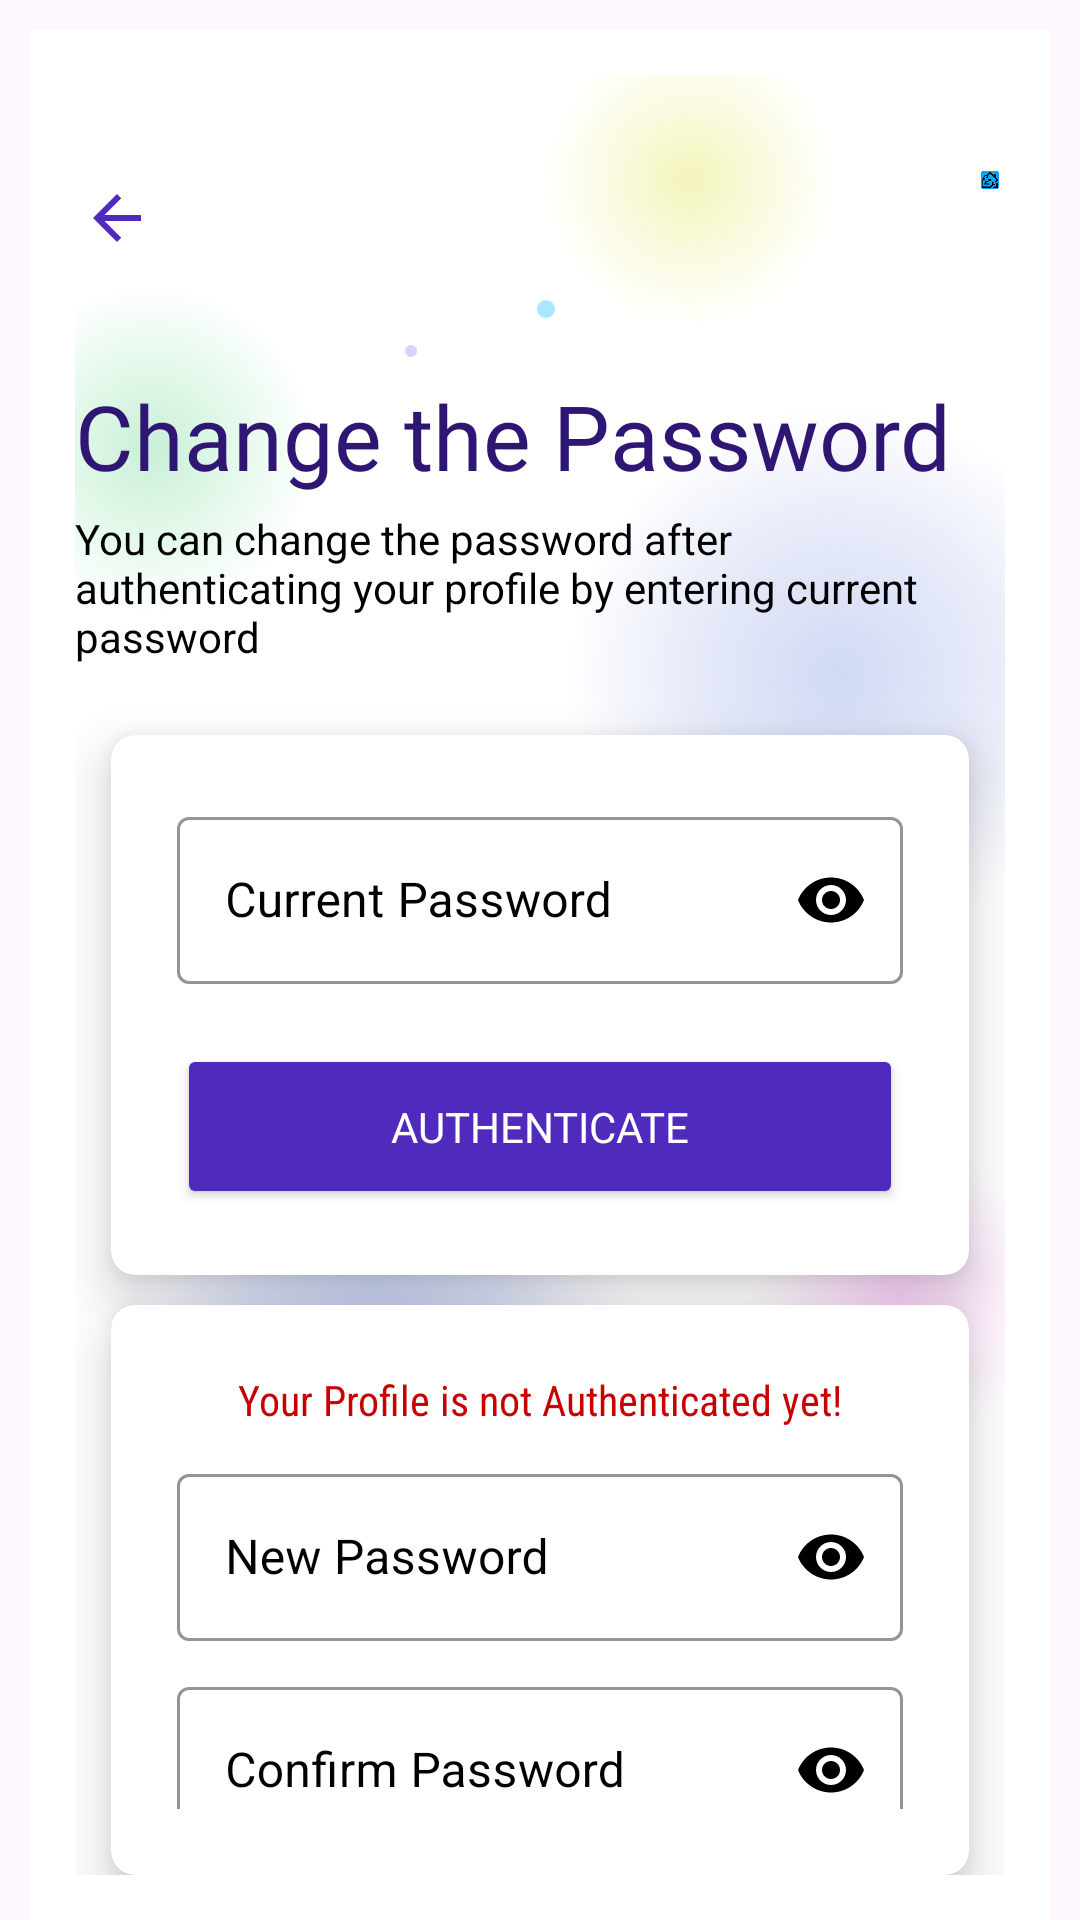

Icon click points for this 1080 x 1920 phone screenshot, format (x,y):
back arrow: (117,218)
